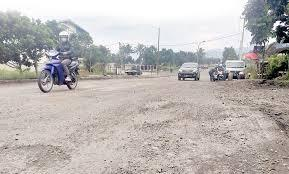Pothole: (223, 90, 289, 144), (0, 136, 90, 174)
